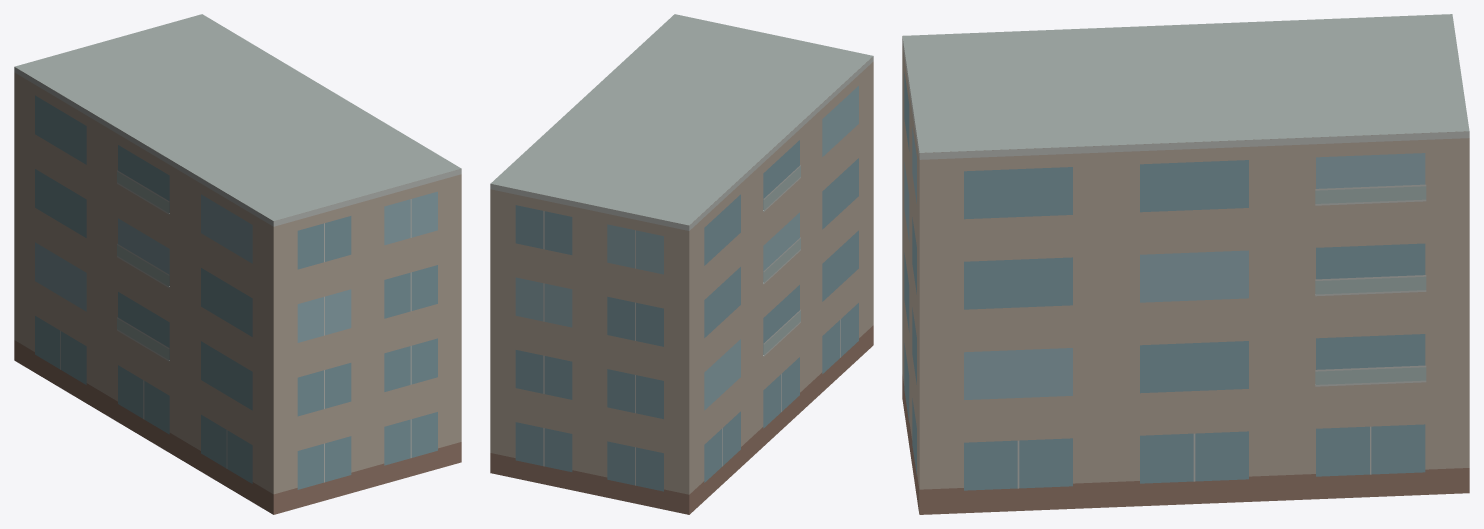
File: survey-upis-32629589.glb
3 renders of one model, left to right at view 1: azimuth 30°, elevation 25°; view 2: azimuth 150°, elevation 25°; view 3: azimuth 270°, elevation 25°, orthographic. The views are drawn at different scales.
Parts seen in each view (by area): view 1: survey-upis-32629589.tmp; view 2: survey-upis-32629589.tmp; view 3: survey-upis-32629589.tmp.
Part boxes in pixels (x1,y1,x2,y2): survey-upis-32629589.tmp: [14, 14, 461, 514]; survey-upis-32629589.tmp: [490, 14, 873, 514]; survey-upis-32629589.tmp: [902, 14, 1469, 514].
Size of the model in its own units: 10.55 by 12.8 by 18.19.
